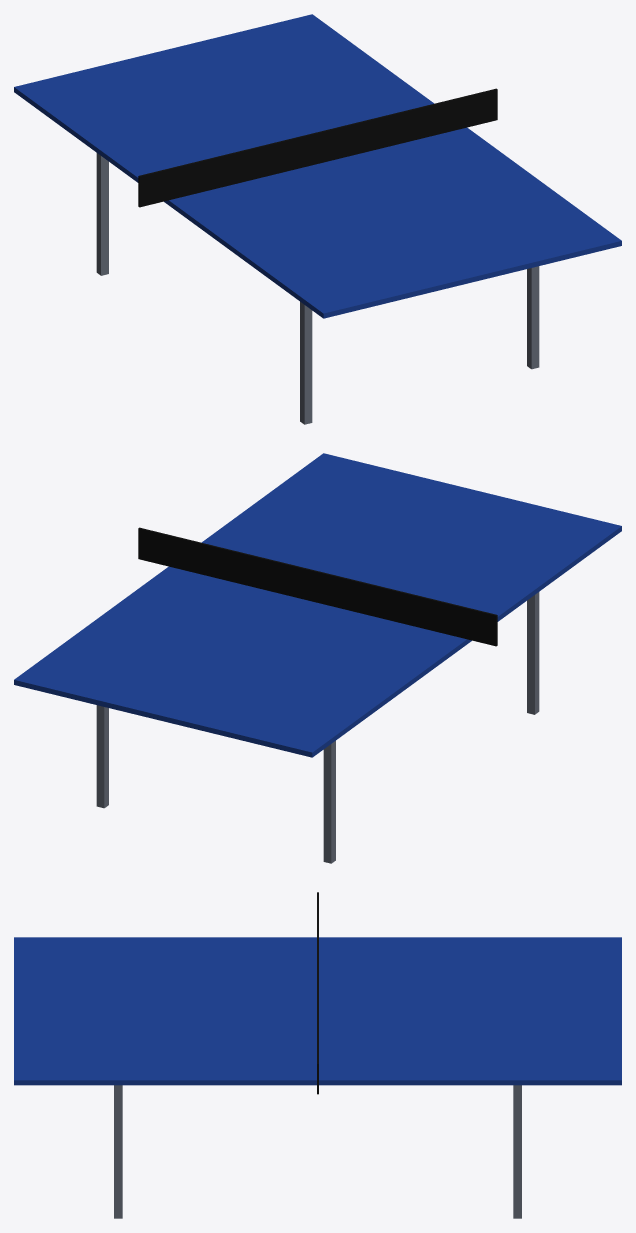
File: sport.pitch.table_tennis.glb
The picture shows the model from 3 angles, top to bottom: view 1: azimuth 30°, elevation 25°; view 2: azimuth 150°, elevation 25°; view 3: azimuth 270°, elevation 25°; orthographic projection.
Visible parts, largest first — view 1: main__plastic_blue, main__plastic_black, main__steel_painted; view 2: main__plastic_blue, main__plastic_black, main__steel_painted; view 3: main__plastic_blue, main__steel_painted.
Part boxes in pixels (x1,y1,x2,y2): main__plastic_blue: (14,14,621,318); main__plastic_black: (138,88,497,207); main__steel_painted: (96,153,539,424); main__plastic_blue: (14,453,621,757); main__plastic_black: (138,527,497,646); main__steel_painted: (96,592,539,863); main__plastic_blue: (14,937,621,1085); main__steel_painted: (114,1085,521,1218).
Bounding box in the file's own units: 1.83 × 0.915 × 2.74.
